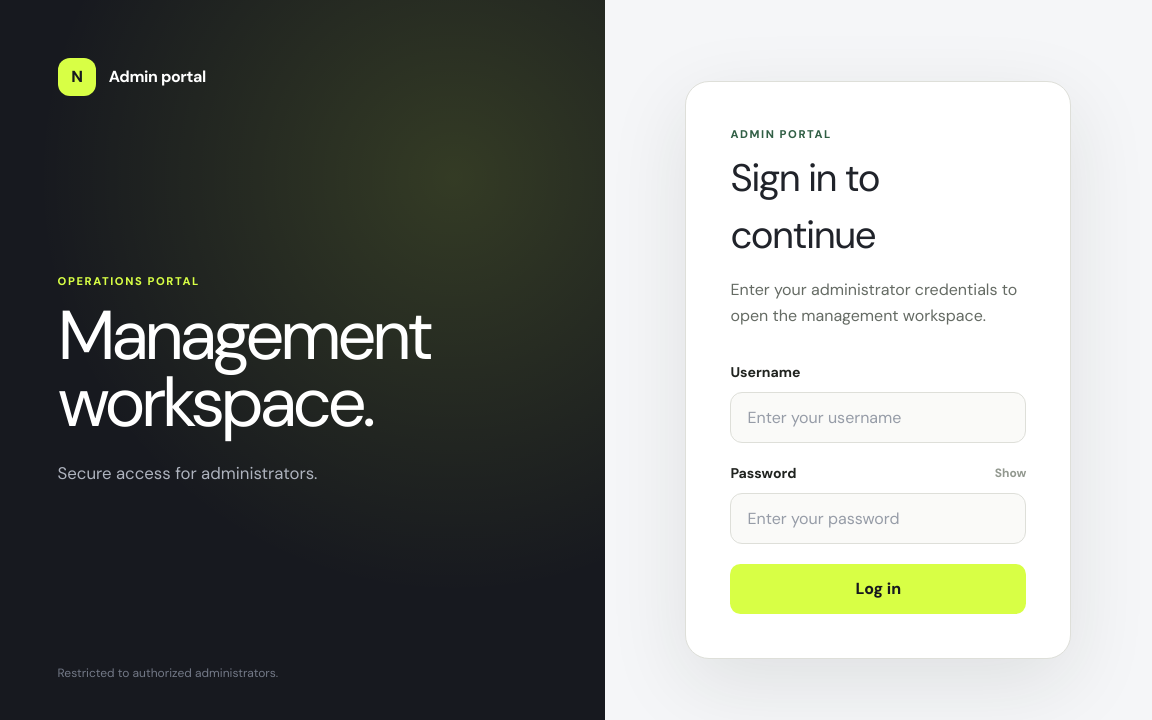
Test: AdminLoginPageComponent › shows unlock instructions when the account is locked
Type "locked-admin@example.com" into the field with id "username" at (878, 418), box [730,392,1026,443]
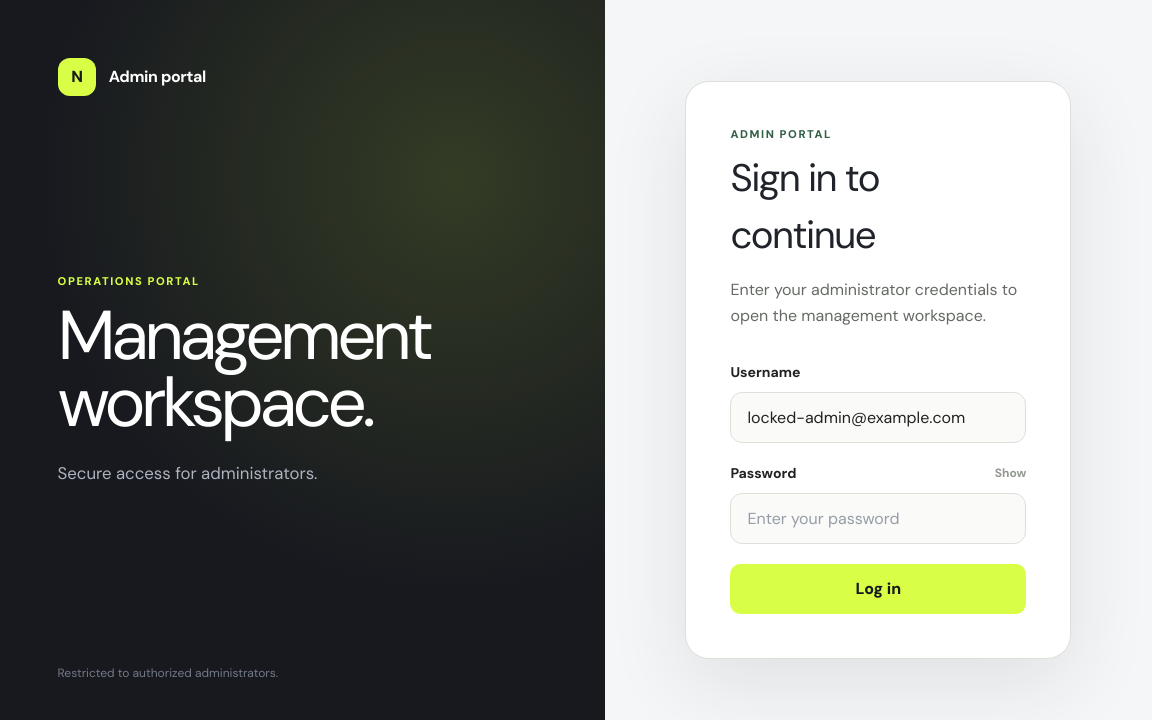
Type "password" into the password field labelled "Password" at (878, 519), box [730,493,1026,544]
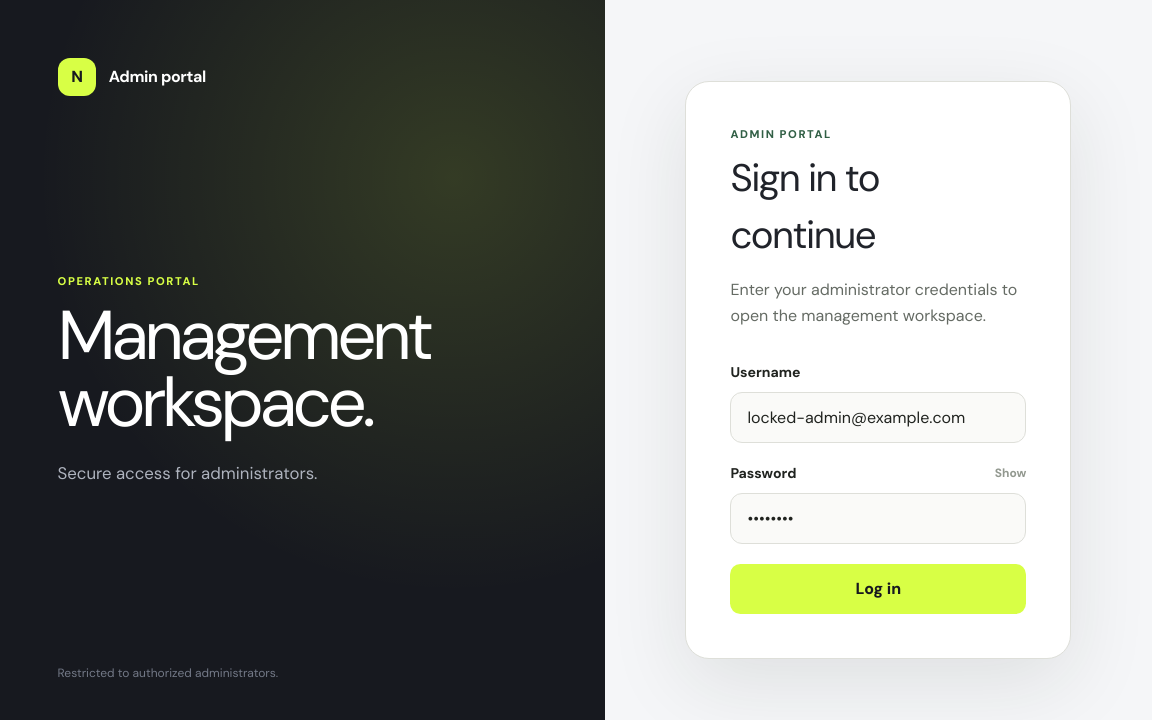
Click the submit button at (878, 589), box [730,564,1026,614]
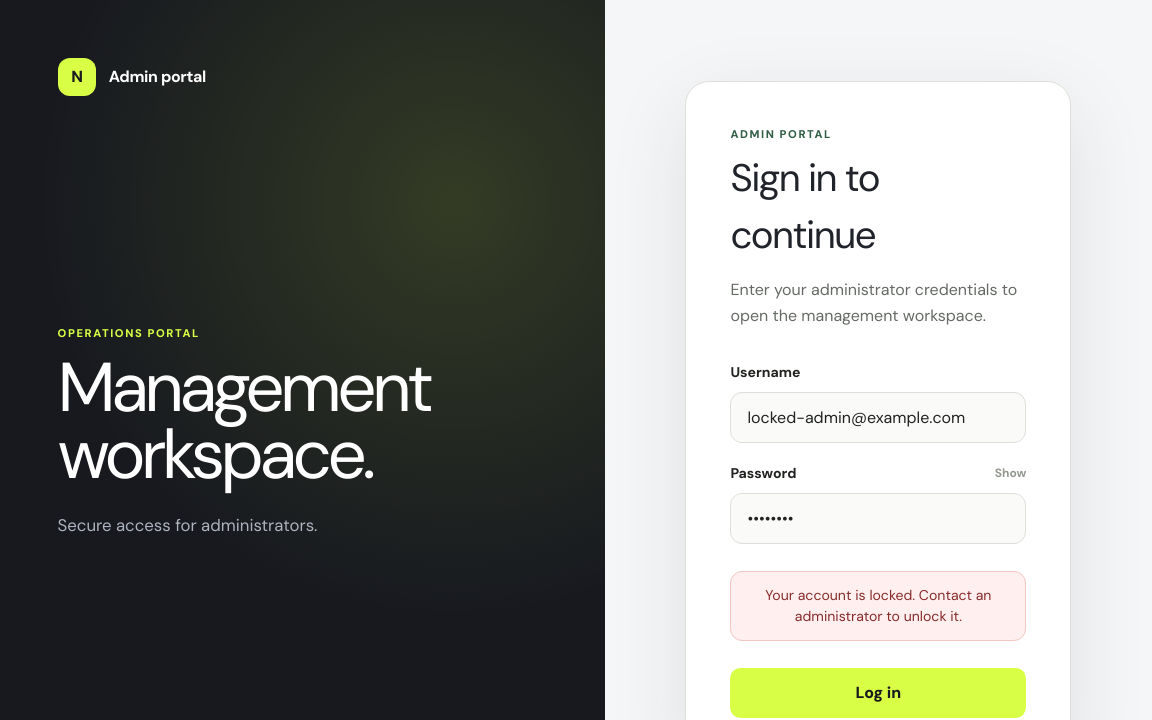
Expected: the message "Your account is locked. Contact an administrator to unlock it." is shown, [730,571,1026,641]
